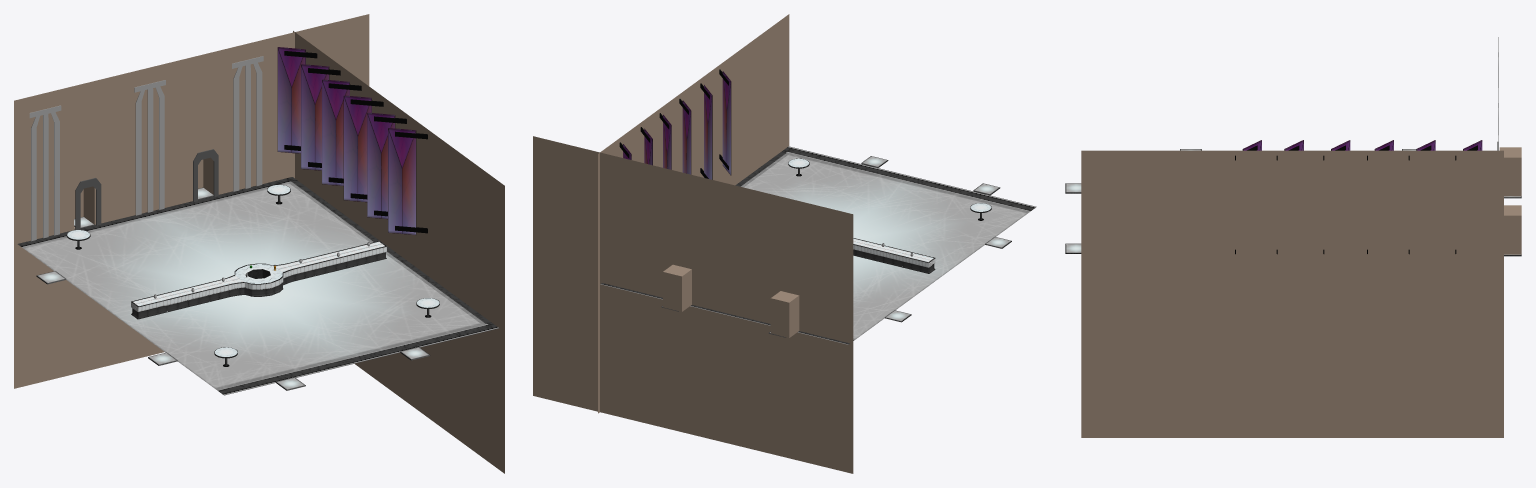
Rendered from Gamelevel.fbx.
The picture shows the model from 3 angles, left to right: view 1: azimuth 30°, elevation 25°; view 2: azimuth 150°, elevation 25°; view 3: azimuth 270°, elevation 25°; orthographic projection. The views are drawn at different scales.
Visible parts, largest first — view 1: pPlane4, pPlane19, pPlane18, group7_pPlane4, pPlane37, pPlane39, pPlane36, pPlane40, pPlane23, pPlane34, pPlane24, pPlane35 (+4 smaller); view 2: pPlane19, pPlane4, pPlane18, group7_pPlane4, pPlane37, pPlane38, pPlane39; view 3: pPlane18, pPlane19.
Part boxes in pixels (<box>): pPlane4: <box>17,177,498,395</box>; pPlane19: <box>14,14,369,388</box>; pPlane18: <box>293,31,504,473</box>; group7_pPlane4: <box>131,241,386,319</box>; pPlane37: <box>388,128,427,234</box>; pPlane39: <box>343,95,383,202</box>; pPlane36: <box>277,47,317,153</box>; pPlane40: <box>134,80,165,215</box>; pPlane23: <box>232,56,263,191</box>; pPlane34: <box>322,79,361,185</box>; pPlane24: <box>29,105,61,241</box>; pPlane35: <box>301,64,340,170</box>; pPlane19: <box>533,136,853,473</box>; pPlane4: <box>600,146,1036,344</box>; pPlane18: <box>598,14,789,413</box>; group7_pPlane4: <box>853,238,935,273</box>; pPlane37: <box>719,69,731,175</box>; pPlane38: <box>700,83,712,179</box>; pPlane39: <box>679,99,691,174</box>; pPlane18: <box>1081,150,1503,437</box>; pPlane19: <box>1499,147,1521,254</box>.
Size of the model in its own units: 78.08 by 57.97 by 83.47.
